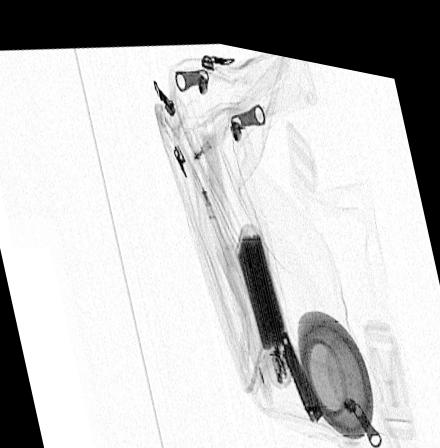Powerbank: (232, 210, 297, 378)
